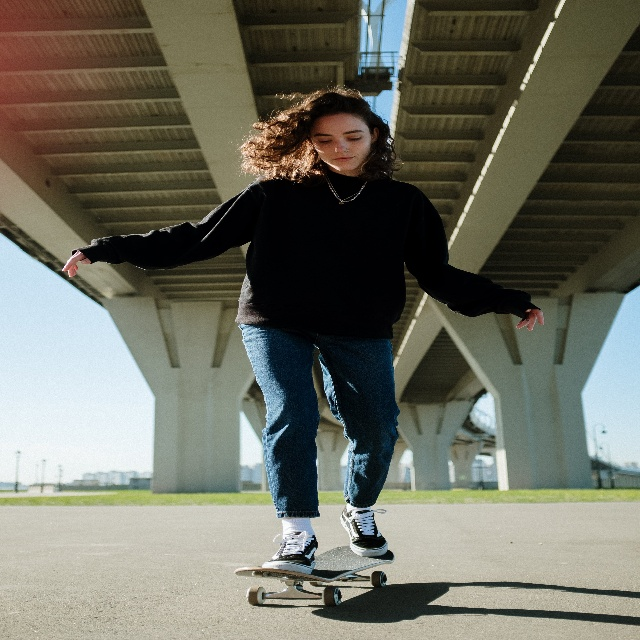Sin_guantes: (62, 251, 91, 277), (516, 309, 545, 331)
